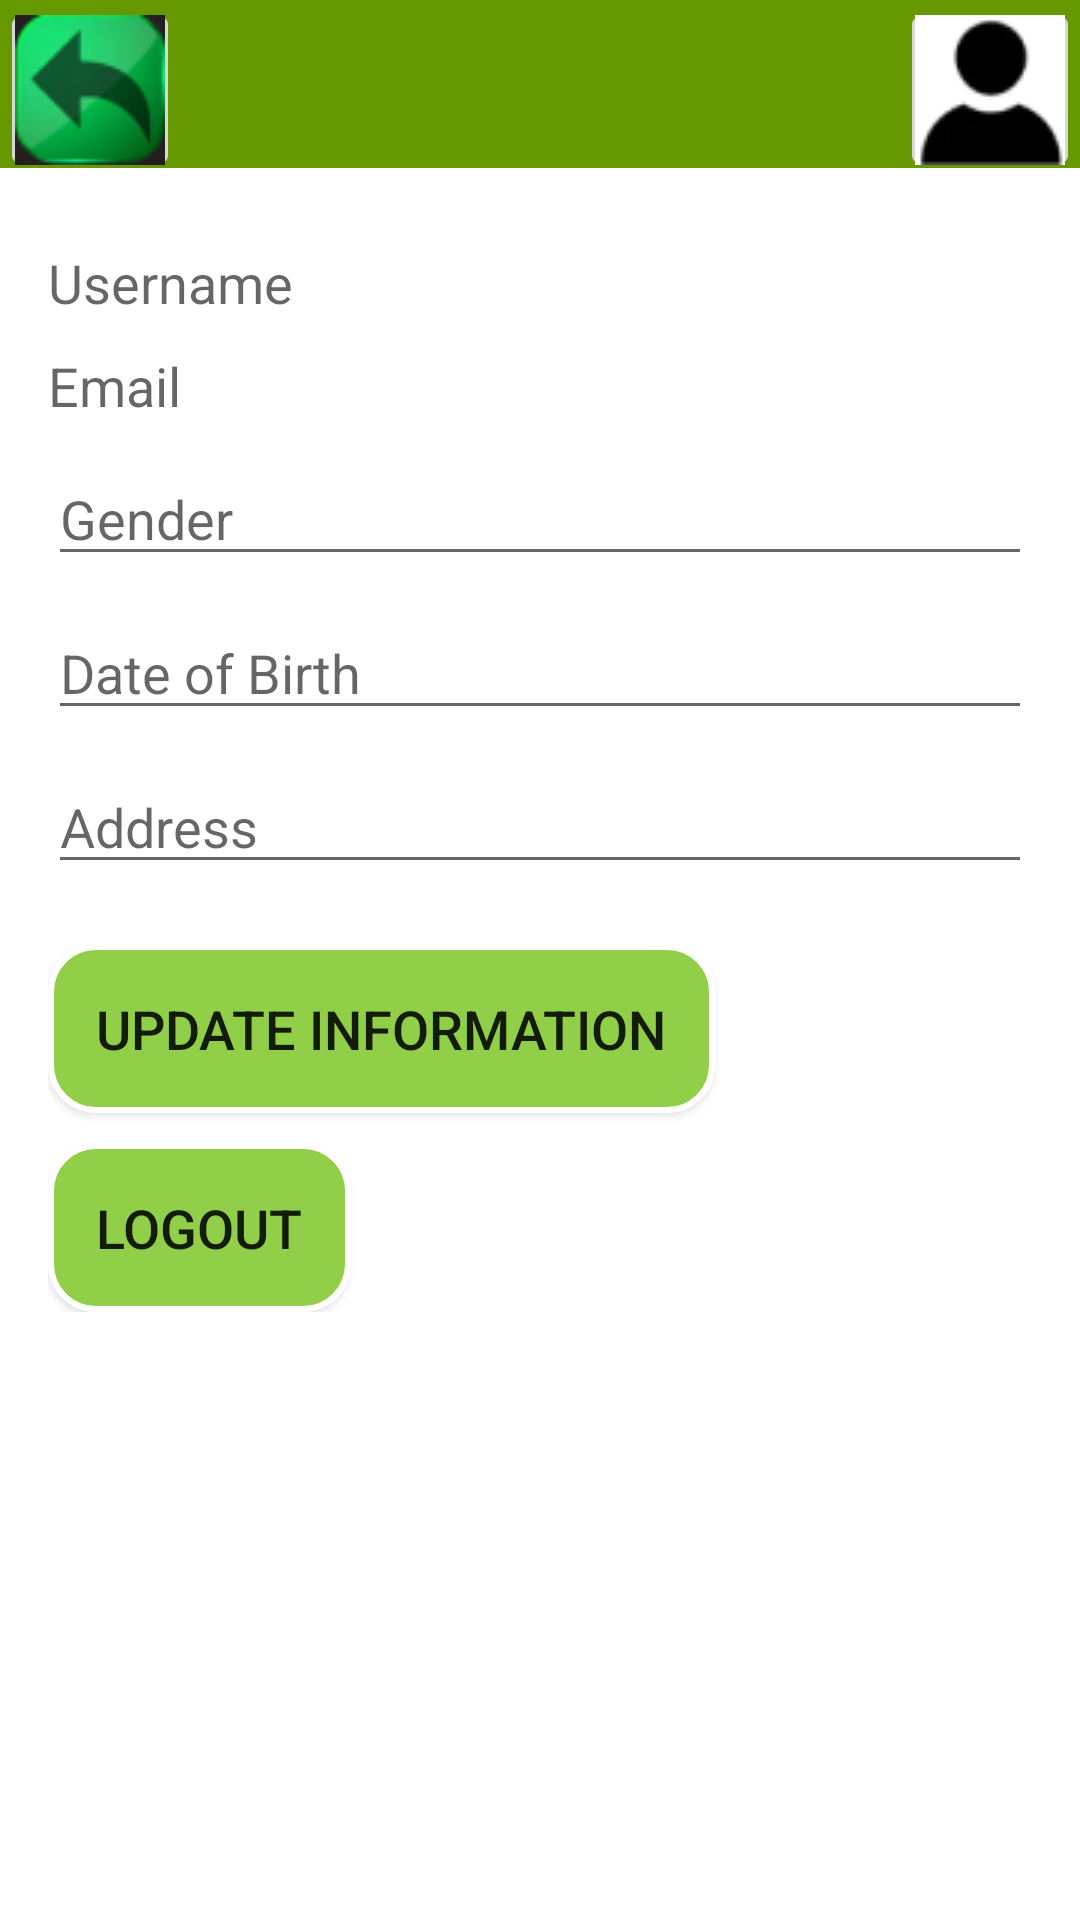

Icon click points for this 1080×1920 phone screenshot, format (x,y):
back: (90,90)
Open account information: (990,90)
